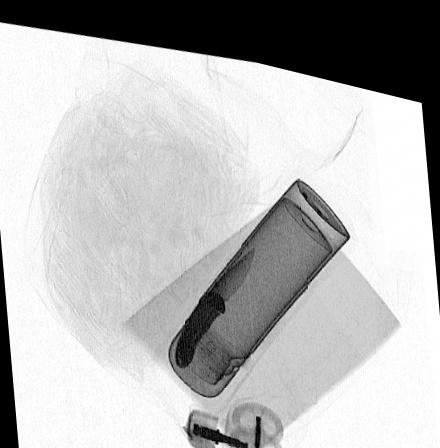Knife: (171, 233, 256, 362)
